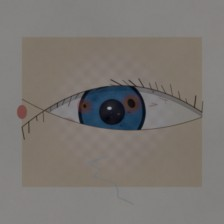foreign_body_visible: (107, 84, 155, 123)
